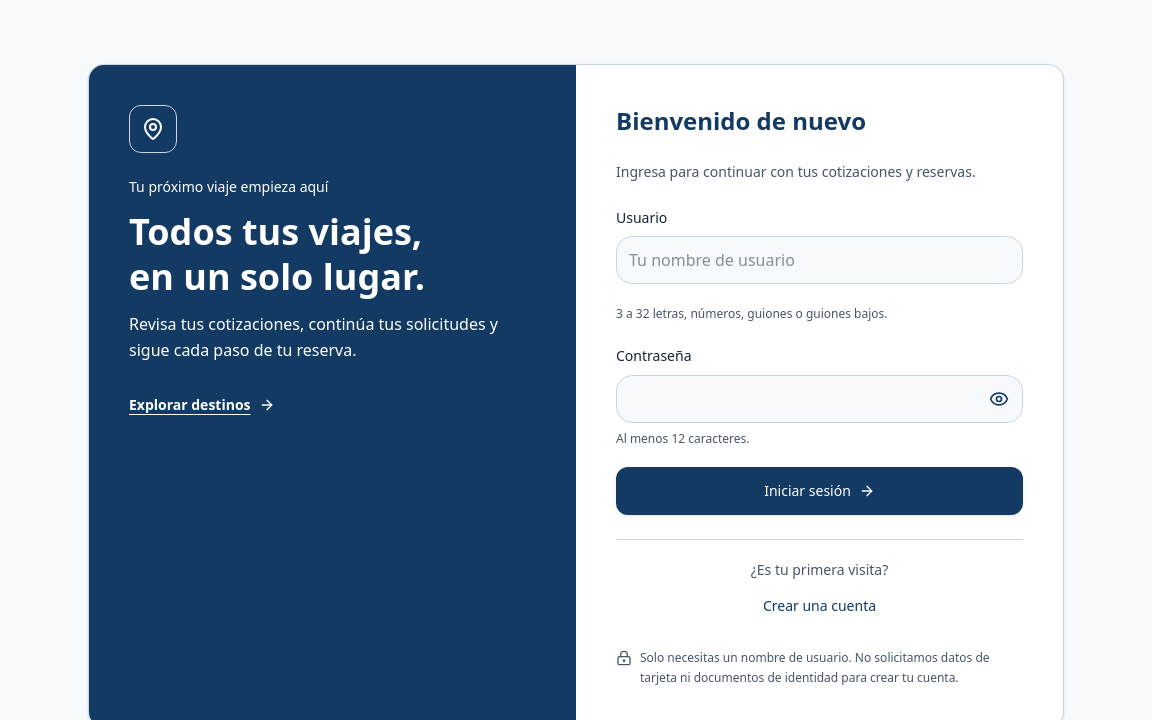
Test case: muestra/oculta contraseña sin perderla ni enviar el formulario
Type "fixture-password" into the password field labelled "Contraseña" at (820,399), box [616,375,1023,423]
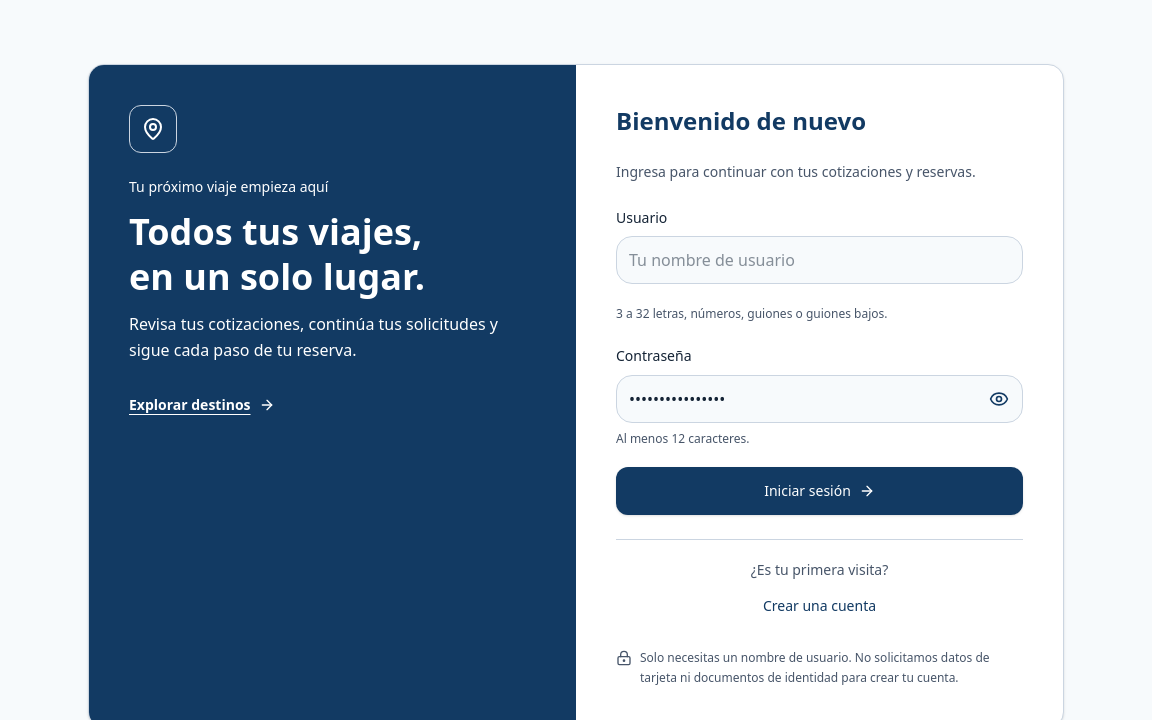
Click the button named "Mostrar contraseña" at (999,399), box [979,379,1019,419]
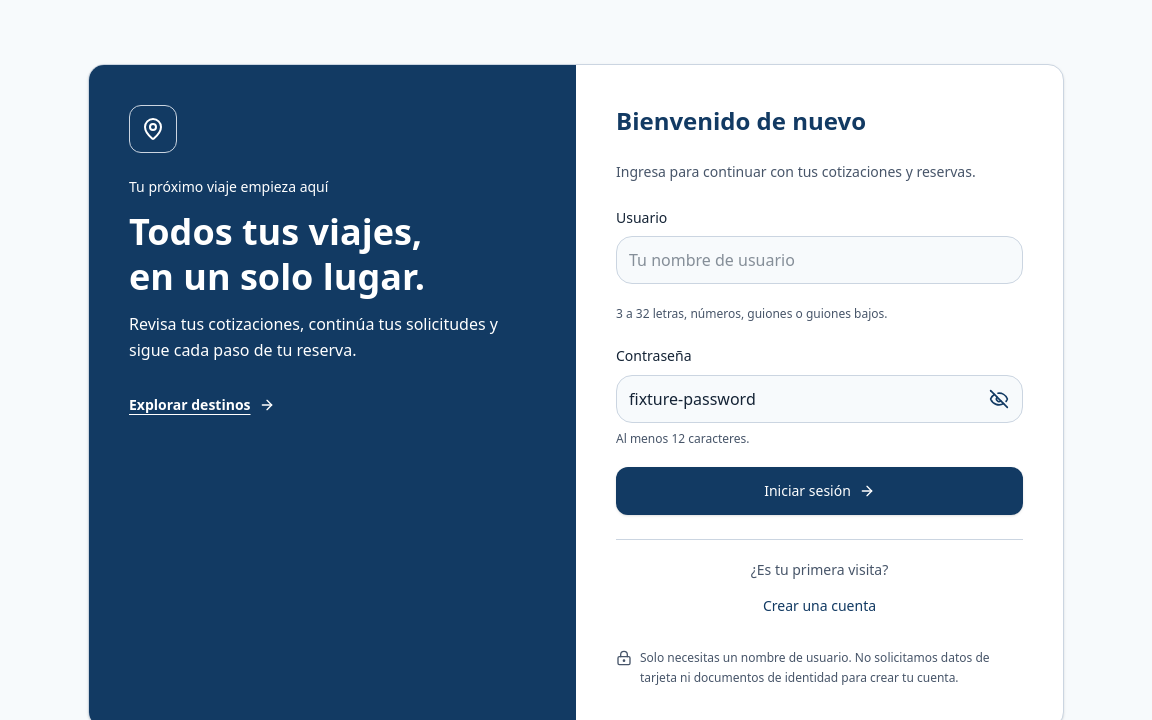
Expected: the field labelled "Contraseña" shows its text, [616,375,1023,423]
Click the button named "Ocultar contraseña" at (999,399), box [979,379,1019,419]
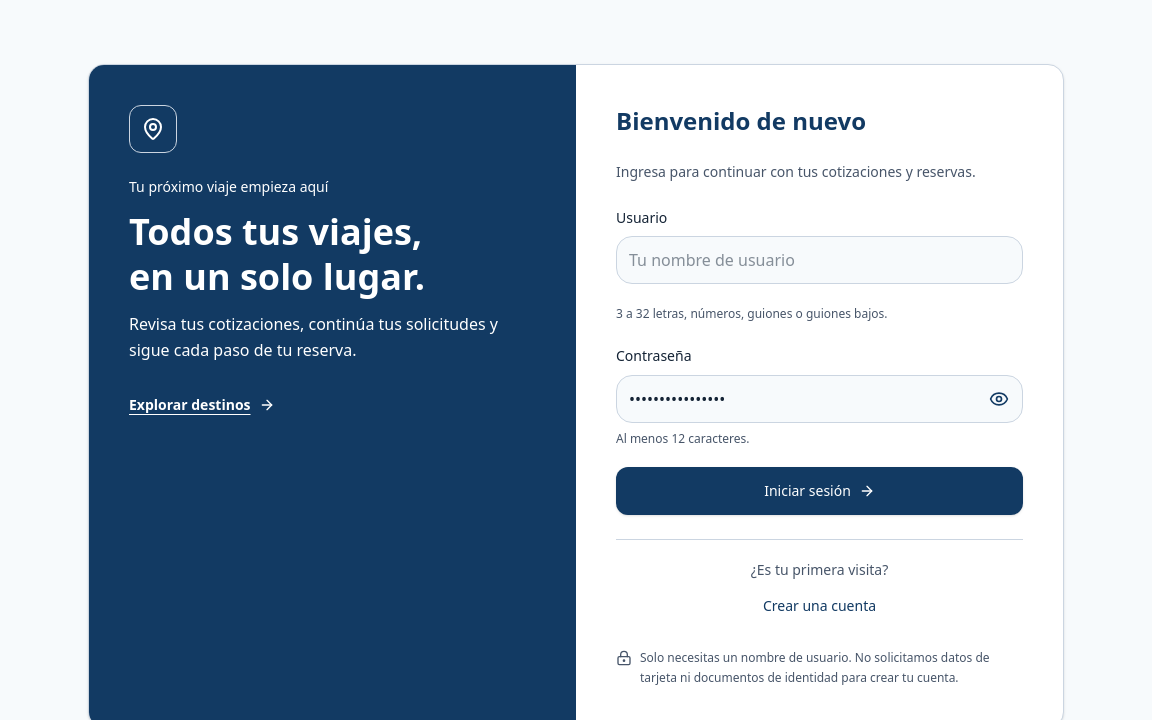
Expected: the password field labelled "Contraseña" hides its text, [616,375,1023,423]
